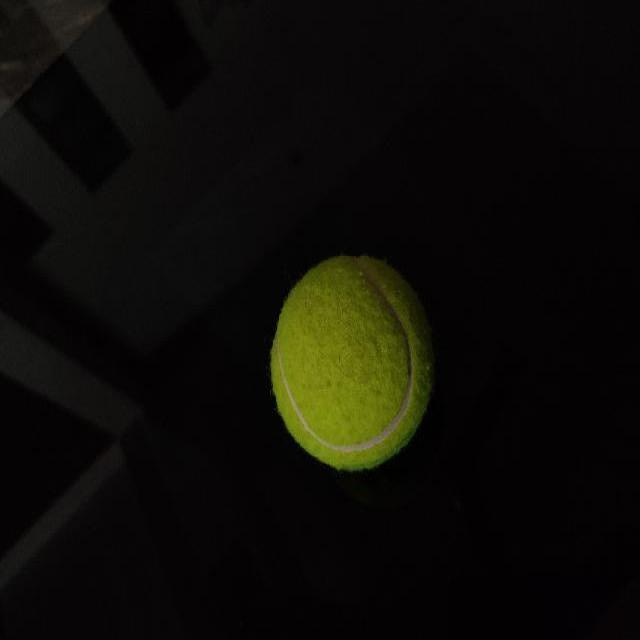tennis-ball: (269, 254, 433, 470)
